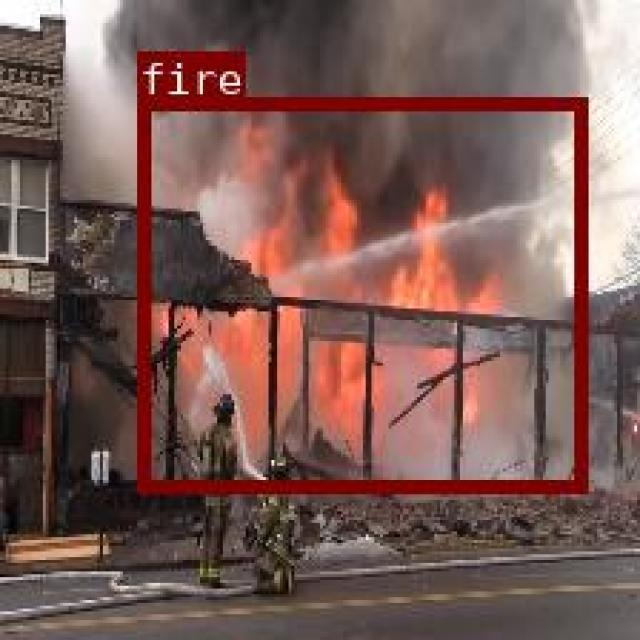fire: (135, 95, 584, 491)
